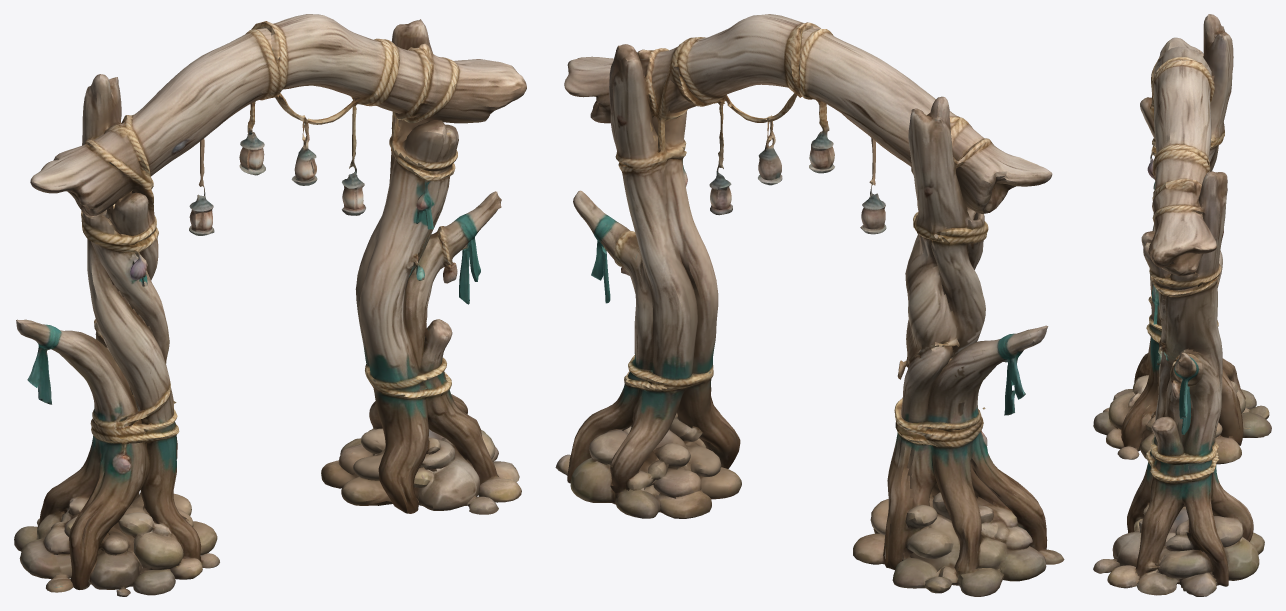
File: tidewake_drift_arch.glb
3 renders of one model, left to right at view 1: azimuth 30°, elevation 25°; view 2: azimuth 150°, elevation 25°; view 3: azimuth 270°, elevation 25°, orthographic. The views are drawn at different scales.
Parts seen in each view (by area): view 1: Mesh_0; view 2: Mesh_0; view 3: Mesh_0.
Part boxes in pixels (<box>): Mesh_0: <box>14,14,526,596</box>; Mesh_0: <box>555,14,1064,596</box>; Mesh_0: <box>1093,14,1271,596</box>.
Size of the model in its own units: 1.89 by 1.82 by 0.6751.
1 material, 1 textured.
